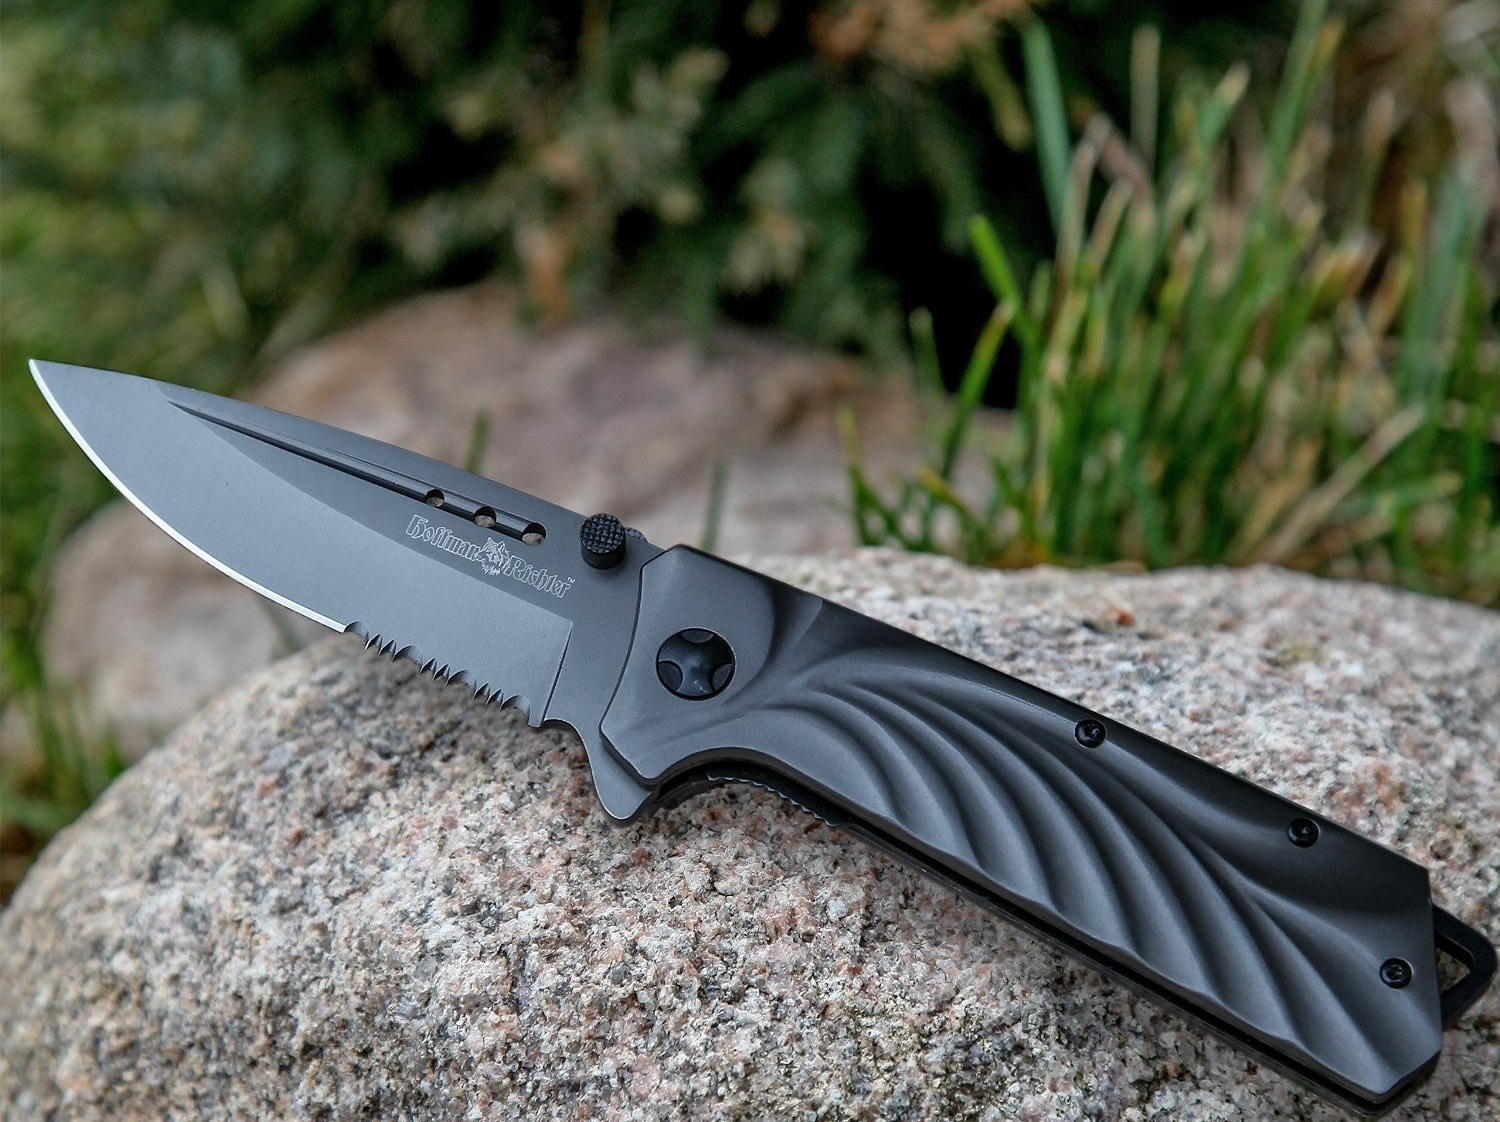knife: (19, 338, 683, 763)
